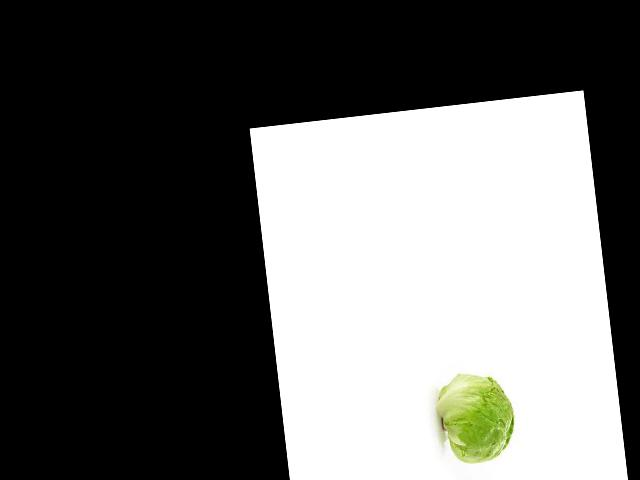lettuce: (439, 354, 540, 473)
